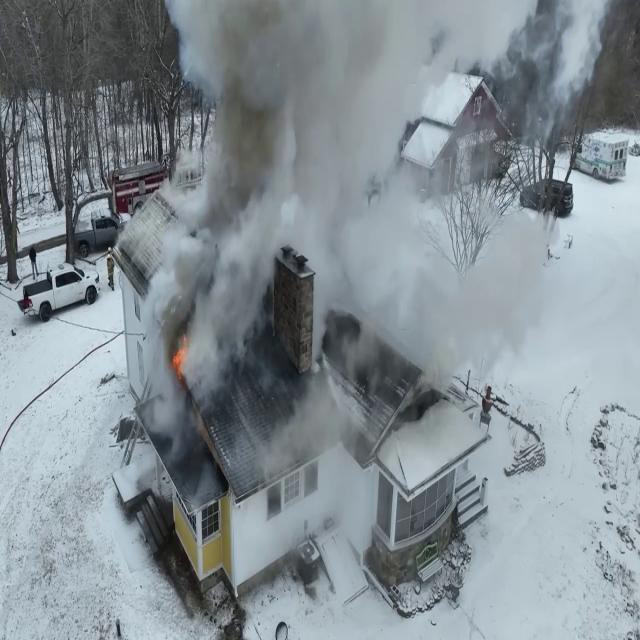Smoke: (131, 0, 556, 429)
